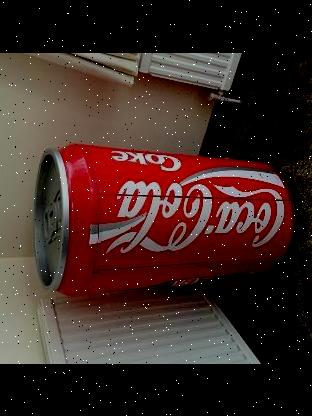Can: (31, 142, 297, 296)
